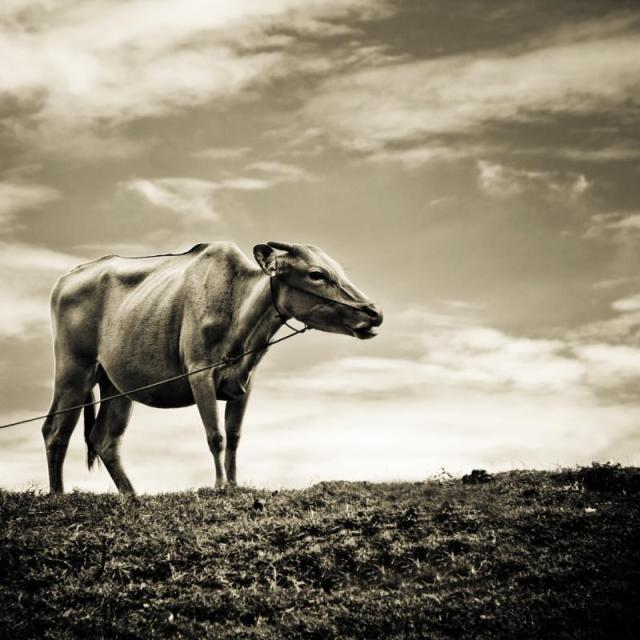cow: (42, 242, 382, 492)
